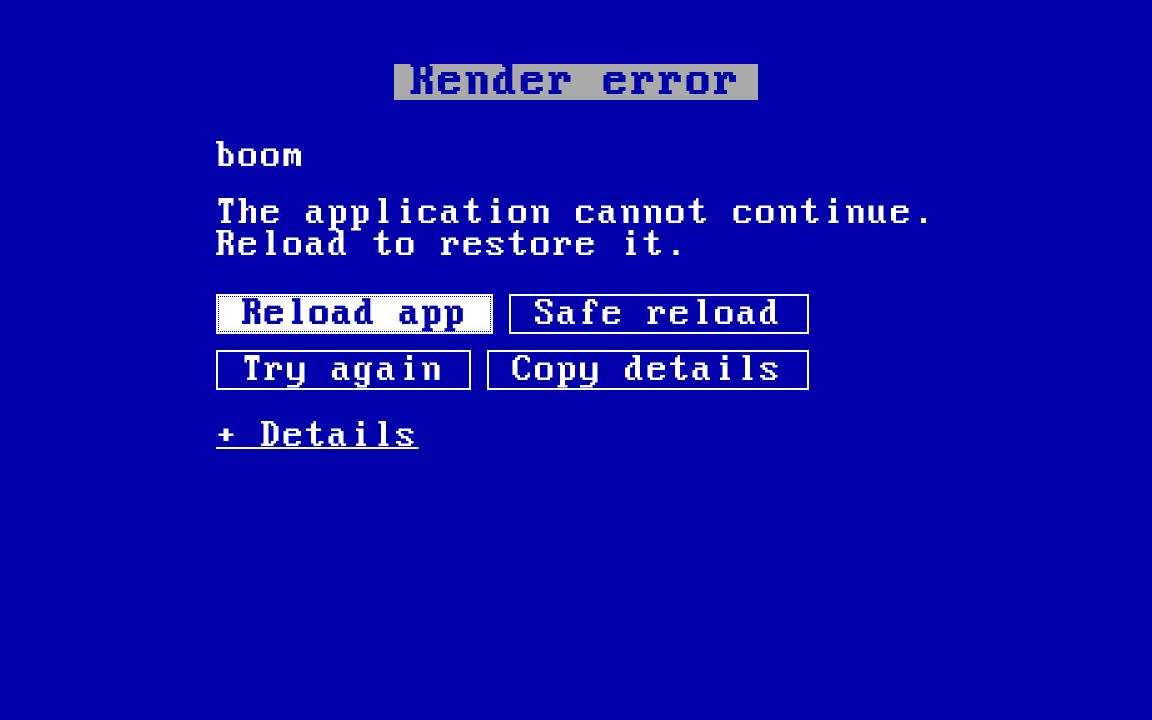
it: RouteErrorScreen › offers reload, safe reload, and copy
Expected: the text "Render error" is shown, [394,64,758,100]
Expected: the button "Reload app" is shown, [216,294,493,334]
Click the button "+ Details" at [238, 436], box [216,422,936,450]
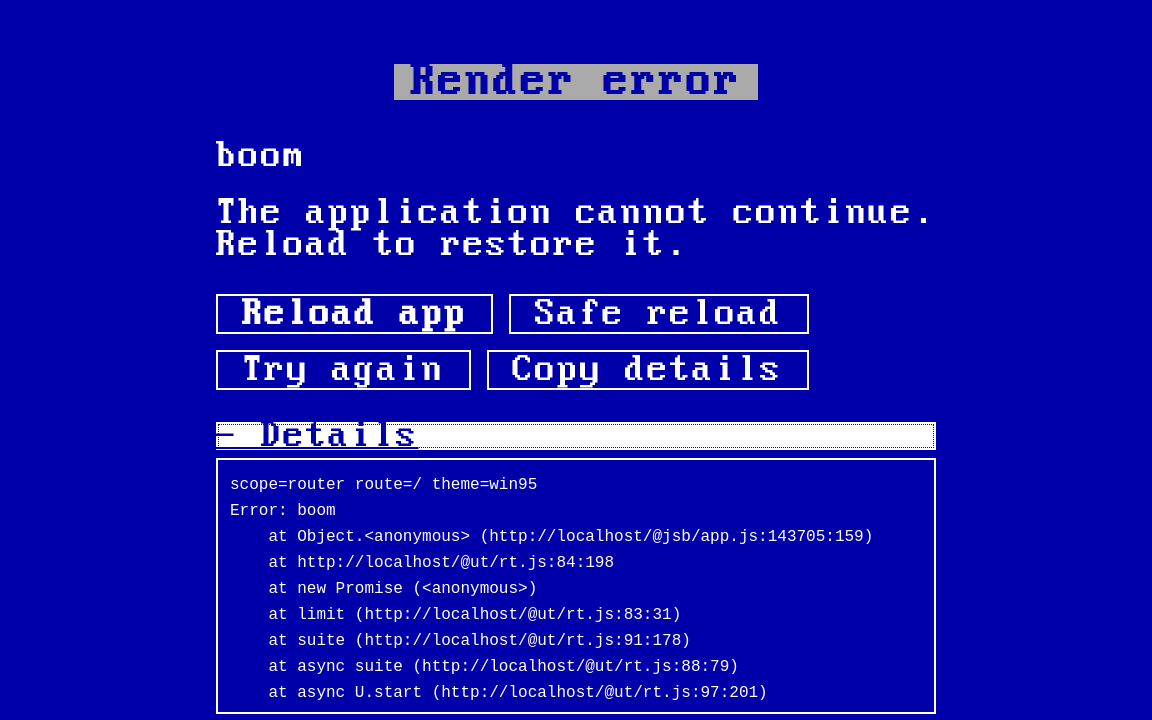
Click the button "Copy details" at [648, 370], box [486,350,808,390]
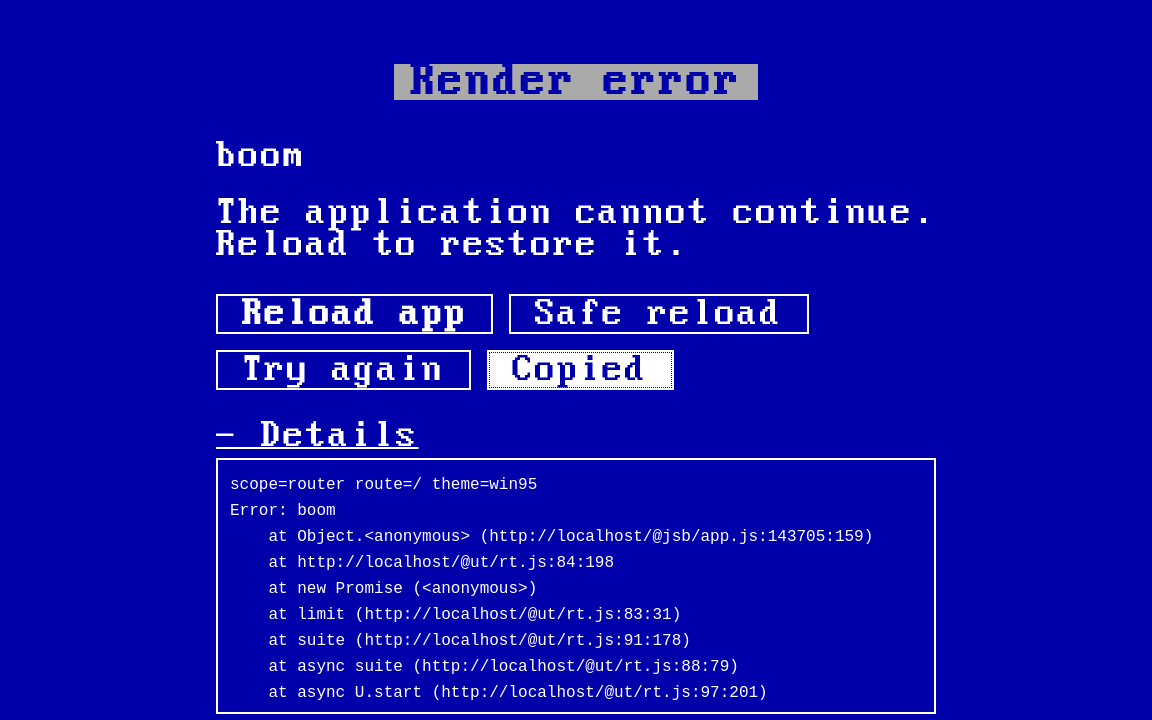
Result: the button "Copied" is shown at [486,350,674,390]
